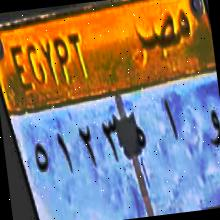1: (52, 125, 77, 186)
2: (78, 118, 100, 176)
3: (98, 110, 124, 176)
5: (30, 131, 54, 188)
alif: (160, 94, 184, 148)
haa: (132, 117, 148, 156)
waw: (200, 104, 220, 157)
